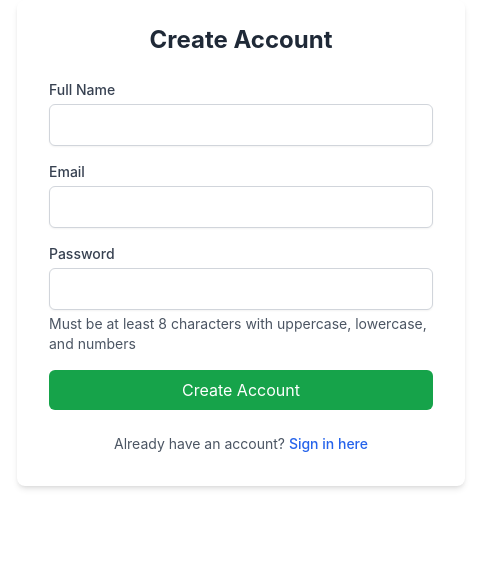
SignupForm › displays error message when sign up fails
This screenshot has width=483, height=573.
Type "John Doe" into the field labelled "Full Name".
click(241, 125); type("John Doe")  # box [49,104,433,146]
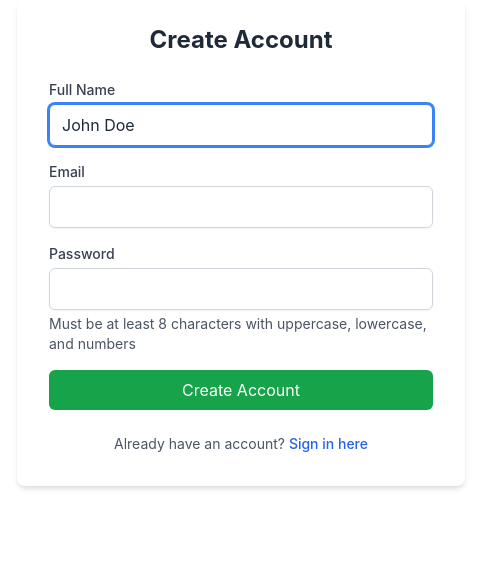
Type "existing@example.com" into the field labelled "Email".
click(241, 207); type("existing@example.com")  # box [49,186,433,228]
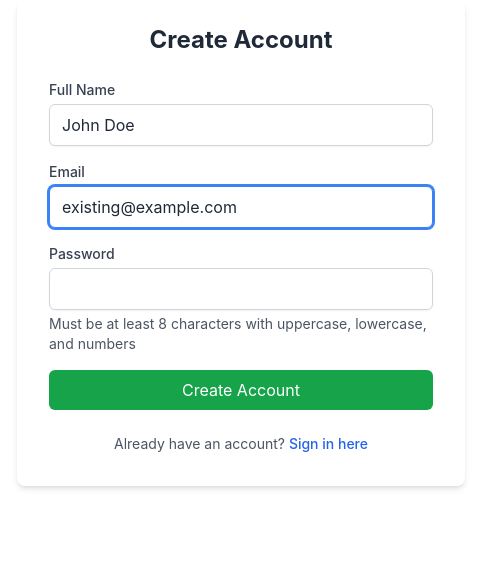
Type "SecurePass123" into the password field labelled "Password".
click(241, 289); type("SecurePass123")  # box [49,268,433,310]
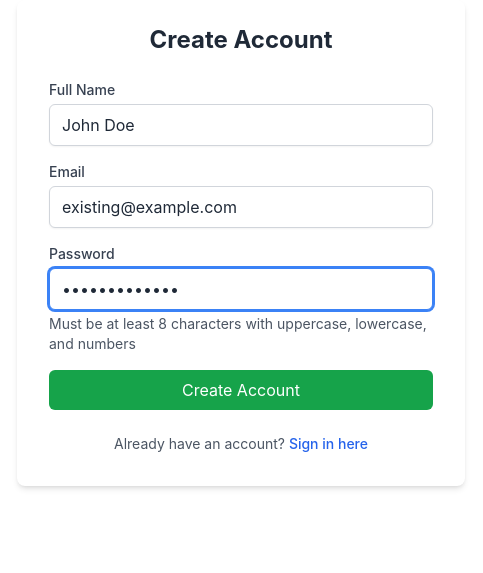
Click the button "Create Account".
click(241, 390)  # box [49,370,433,410]
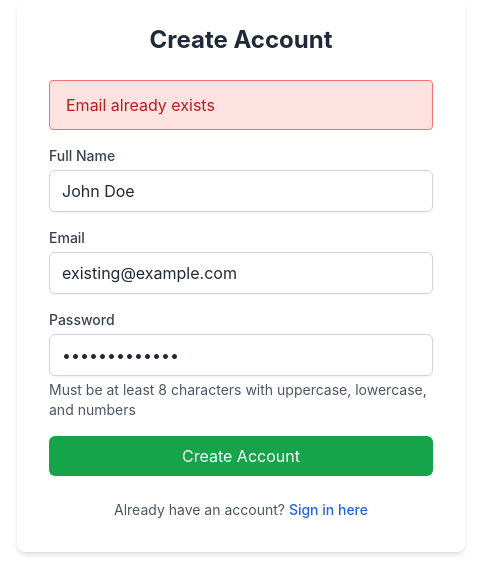
Expected: the text "Email already exists" is shown, [49,80,433,130]
